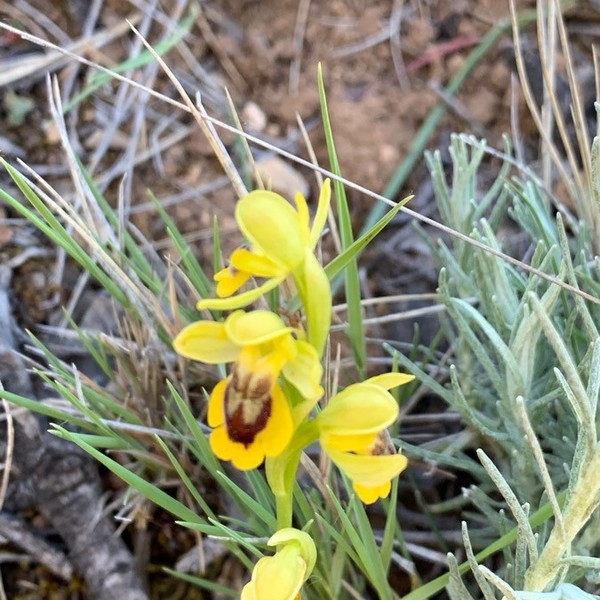obstacle: (161, 142, 409, 540)
